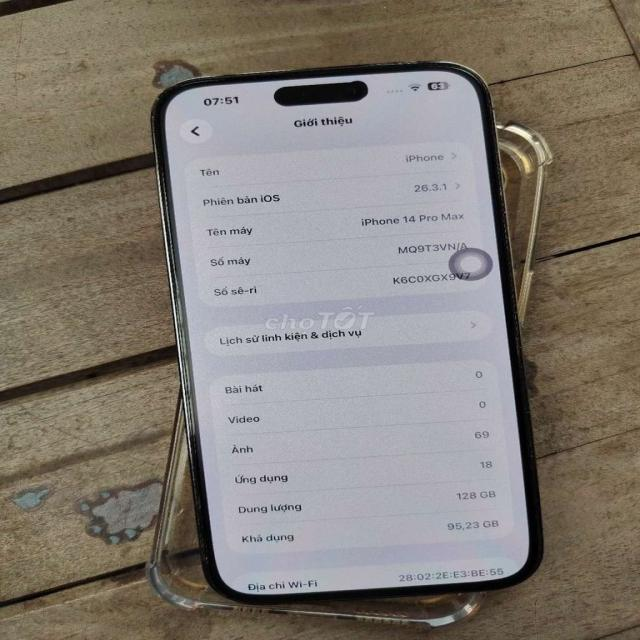gen_14: (136, 50, 564, 603)
